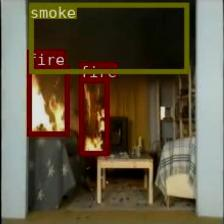fire: (26, 66, 68, 135), (78, 78, 109, 155)
smoke: (29, 2, 188, 72)
